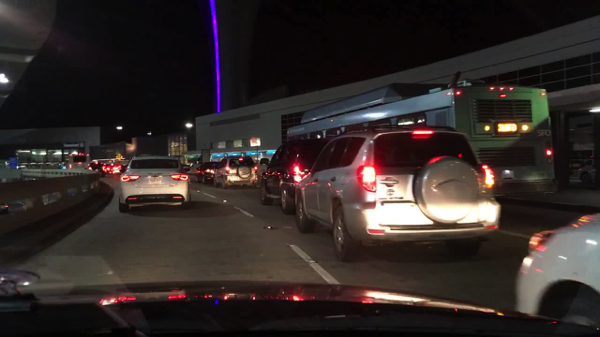bus: (285, 77, 557, 209)
car: (293, 126, 502, 261), (512, 205, 598, 328), (259, 137, 351, 213), (117, 154, 194, 213), (211, 154, 257, 188), (573, 160, 596, 184), (195, 159, 217, 184), (83, 161, 109, 176), (103, 162, 124, 176)
